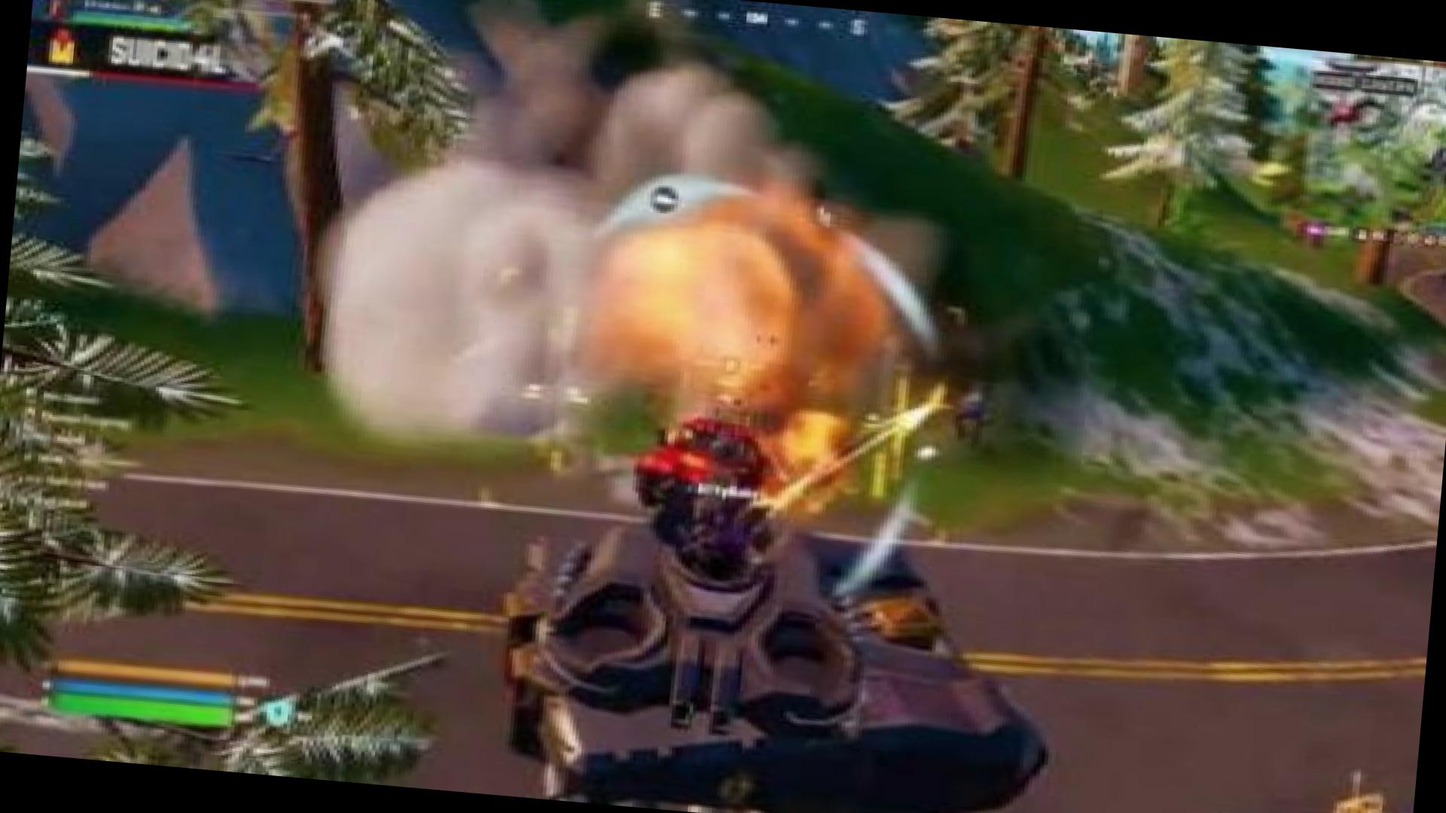player: (937, 387, 1016, 454)
